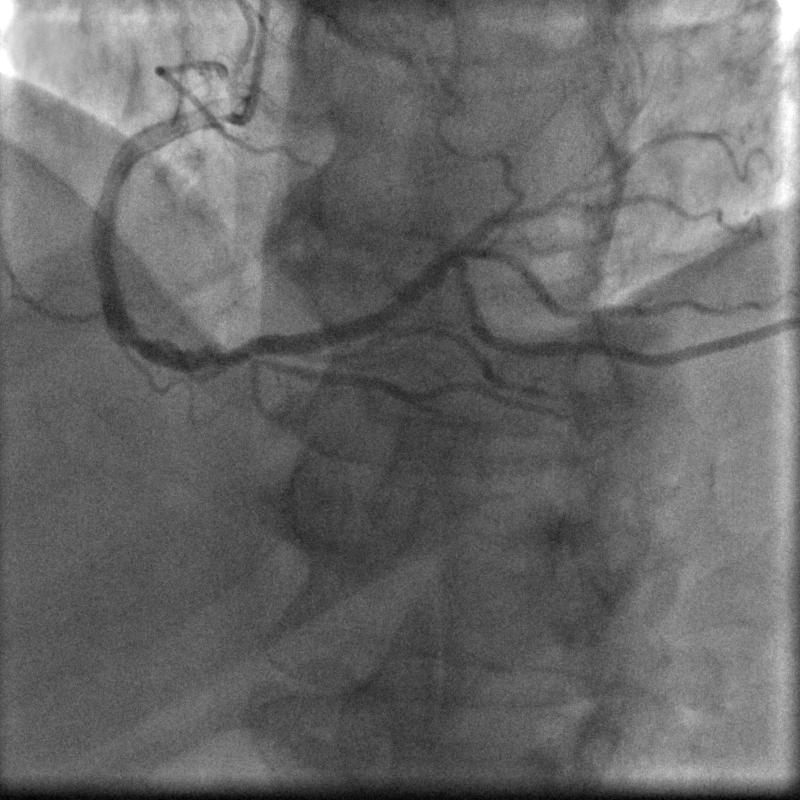Stenosis: (171, 333, 266, 367)
